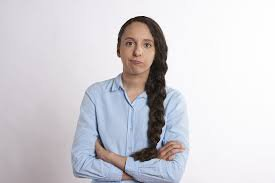noMask: (112, 14, 167, 77)
